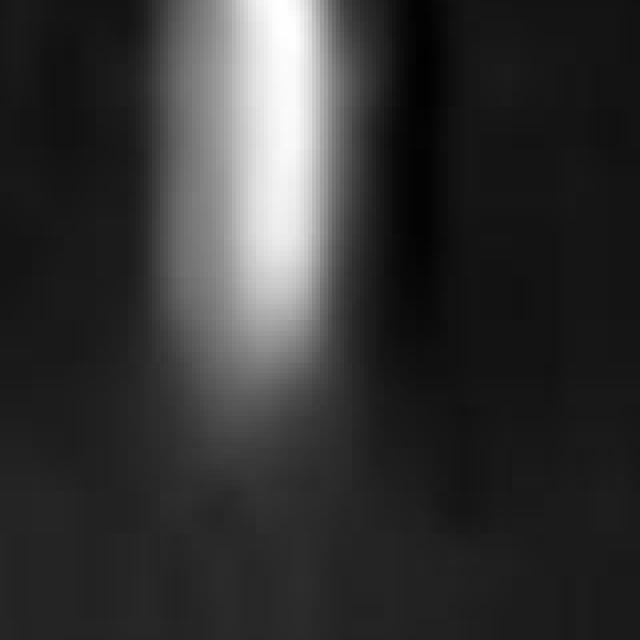person: (141, 1, 357, 406)
